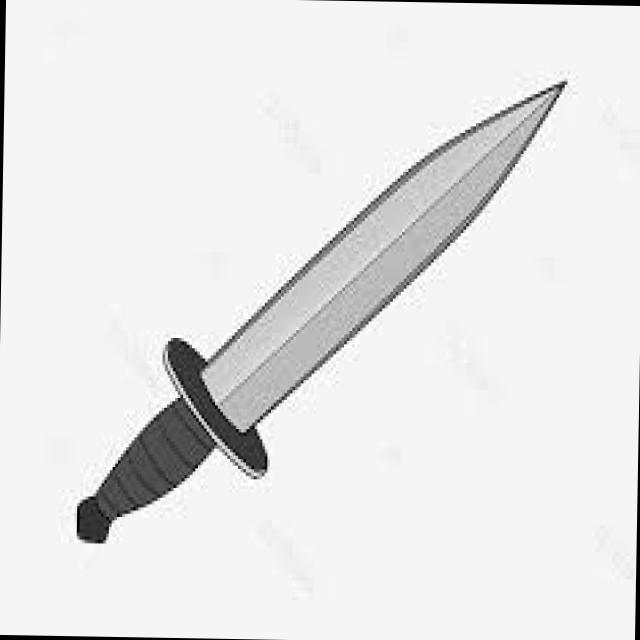Gun: (57, 62, 570, 554)
